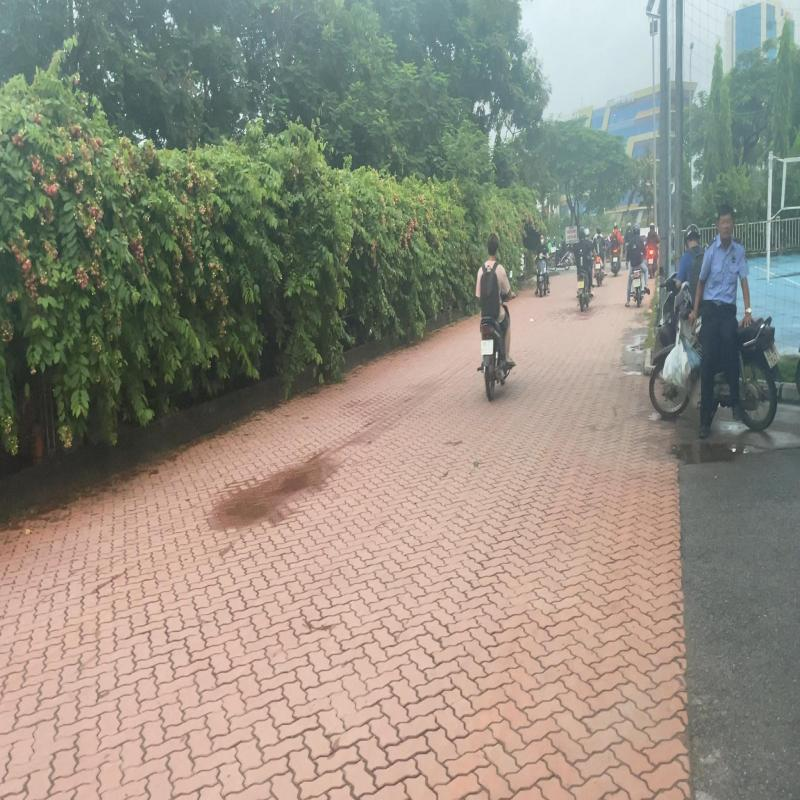licenseplate: (482, 339, 493, 355)
motorcyclist: (474, 232, 519, 403)
nohelmet: (487, 234, 499, 258)
